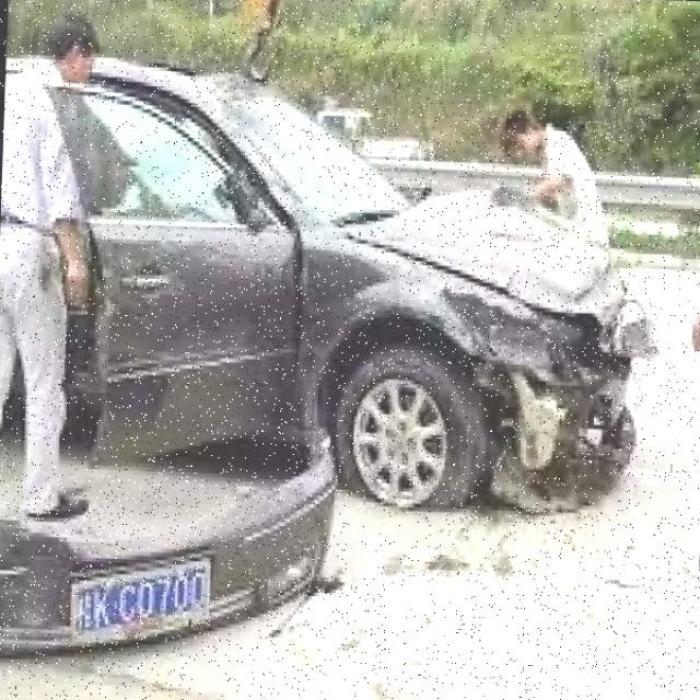Accident: (298, 128, 667, 556)
